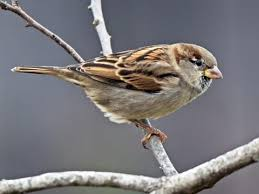hsparrow: (8, 36, 226, 149)
